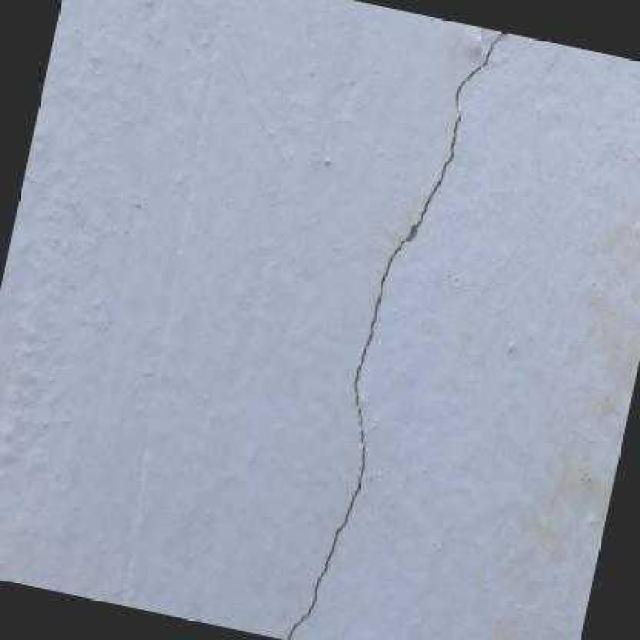D00: (284, 31, 510, 640)
